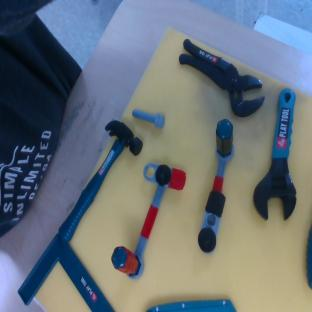non_pass: (195, 117, 238, 255)
pass: (107, 158, 188, 284)
